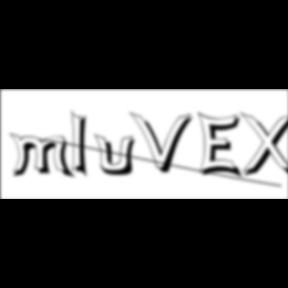E: (198, 110, 246, 182)
V: (130, 110, 196, 176)
l: (72, 108, 94, 182)
m: (9, 132, 77, 181)
u: (95, 132, 143, 178)
